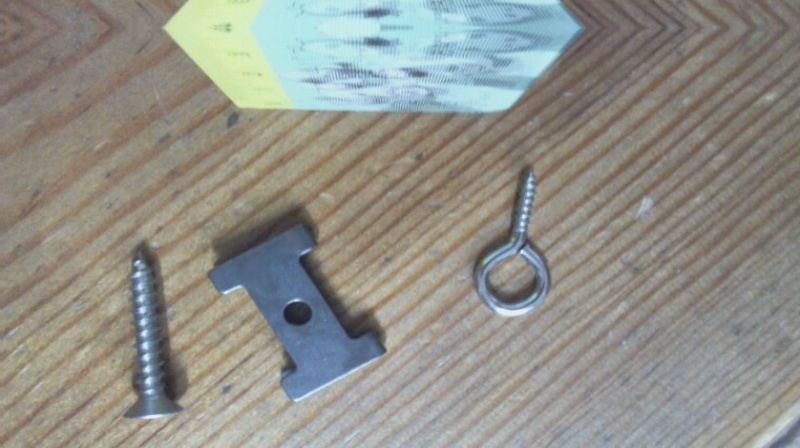O001: (468, 162, 552, 317)
O002: (205, 218, 391, 403)
S001: (118, 243, 186, 423)
